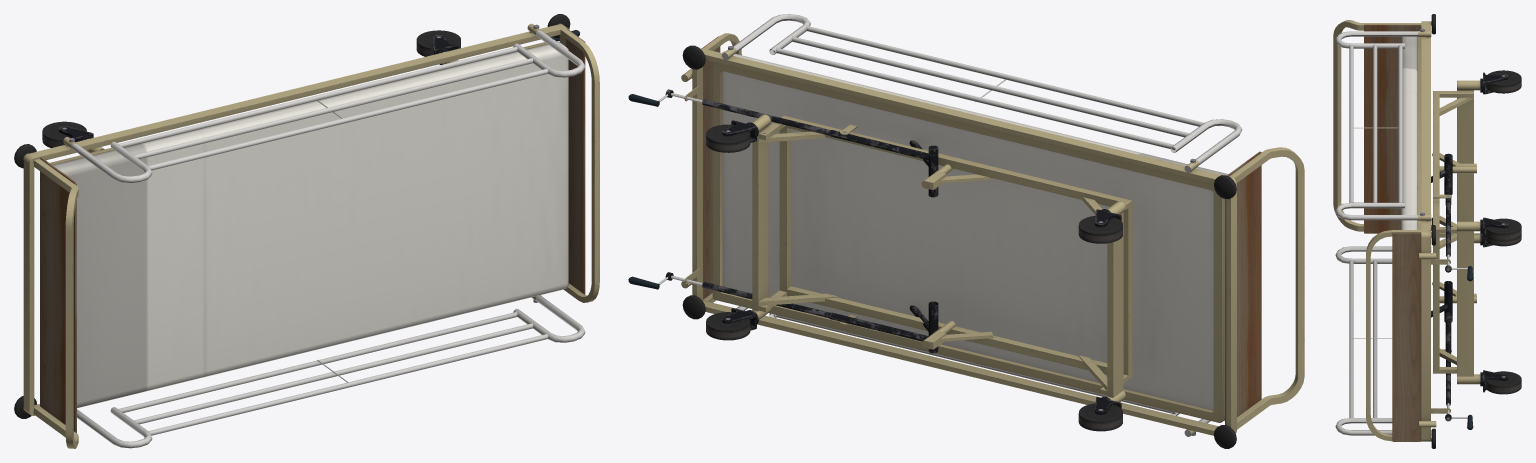
The model's file is ClassCBed.glb.
3 renders of one model, left to right at view 1: azimuth 30°, elevation 25°; view 2: azimuth 150°, elevation 25°; view 3: azimuth 270°, elevation 25°, orthographic. The views are drawn at different scales.
Parts seen in each view (by area): view 1: Class C Room Bed; view 2: Class C Room Bed; view 3: Class C Room Bed.
Boxes of the visible parts, left/top/right/bottom form: Class C Room Bed: left=14, top=14, right=599, bottom=448; Class C Room Bed: left=628, top=14, right=1304, bottom=448; Class C Room Bed: left=1333, top=14, right=1521, bottom=448.
Size of the model in its own units: 2.32 by 1.03 by 0.7819.
1 material, 1 textured.
